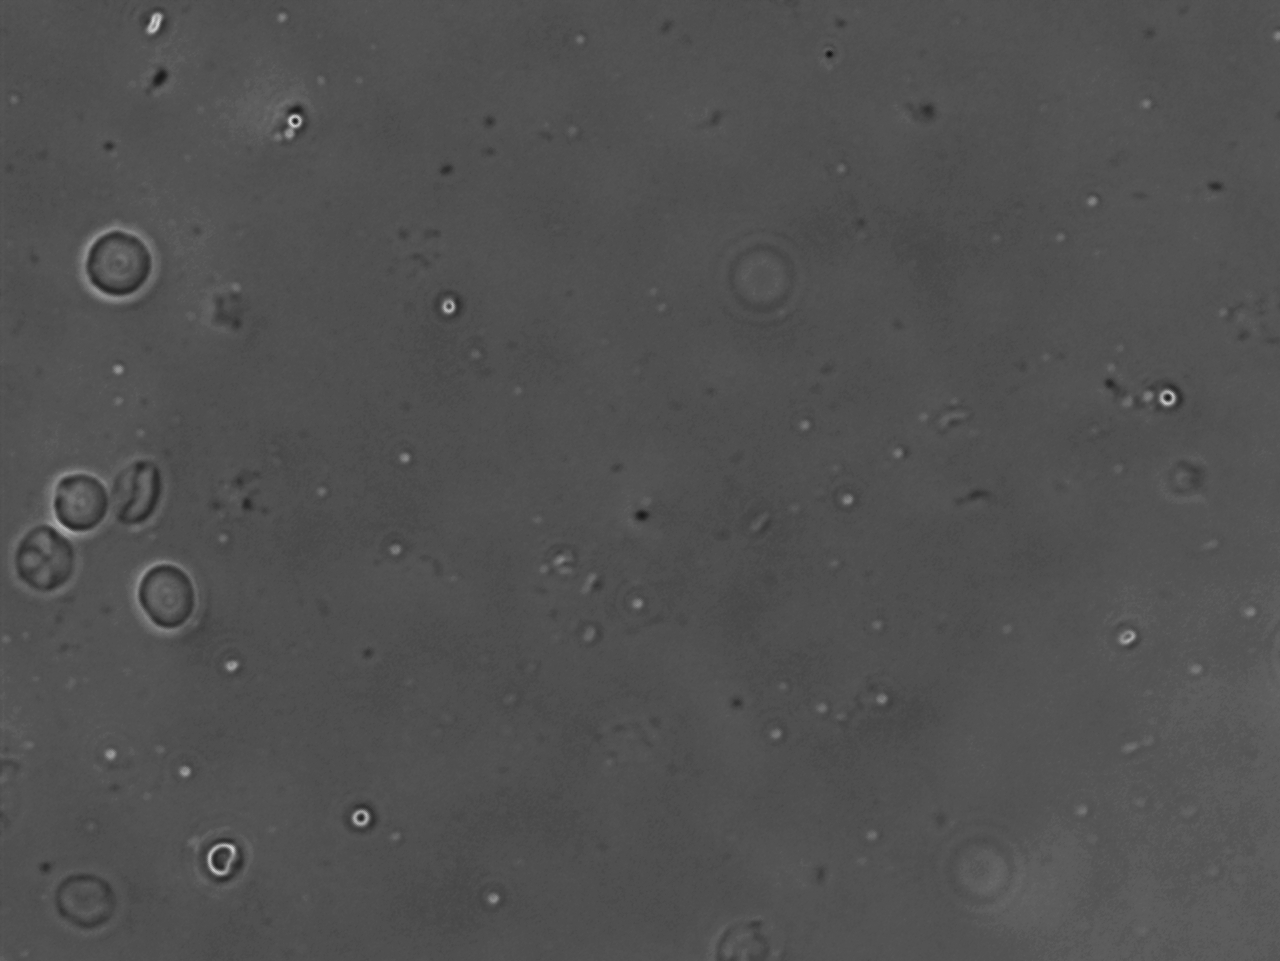depth:0: (69, 215, 165, 316), (31, 453, 120, 549), (125, 553, 208, 639)
